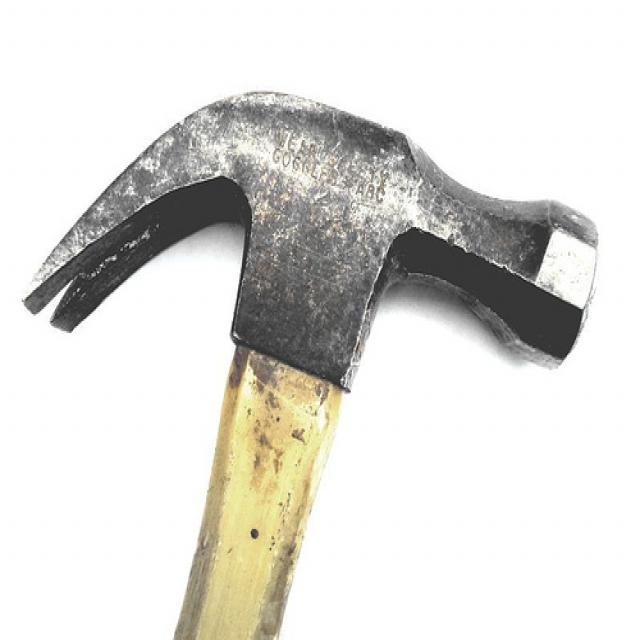hammer: (9, 58, 604, 640)
